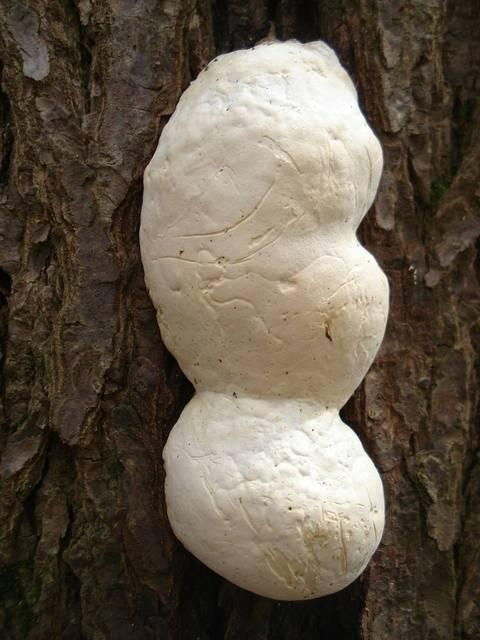poisonous_mushroom: (136, 36, 392, 601)
